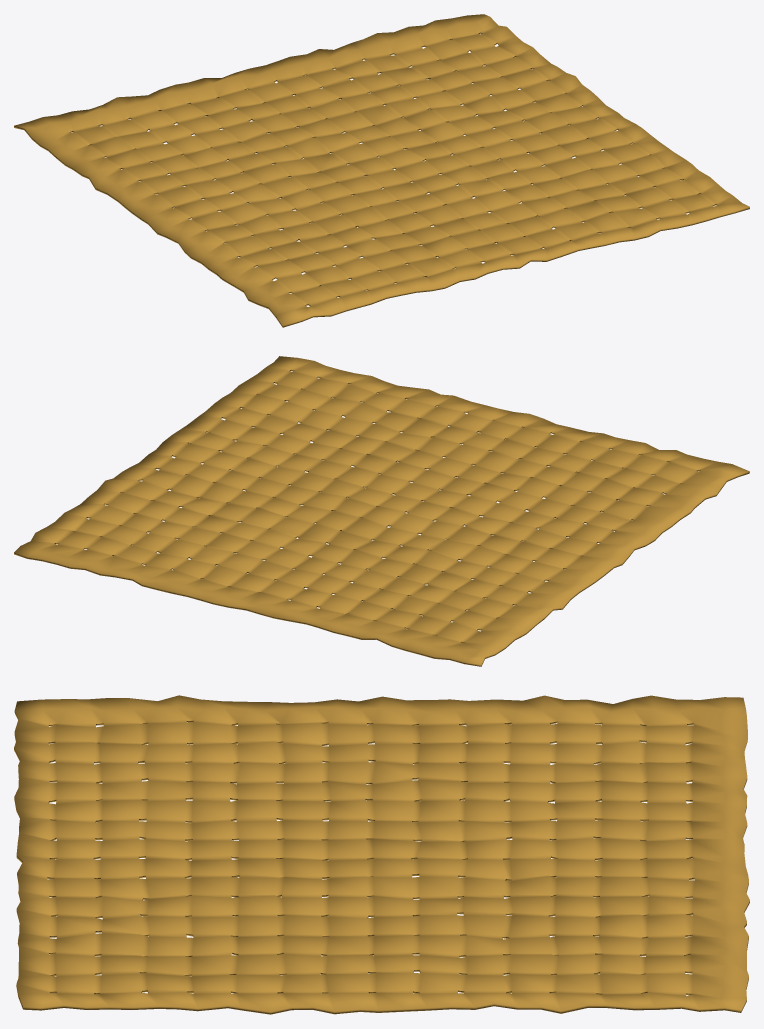
The model's file is Cracker.glb.
3 renders of one model, top to bottom at view 1: azimuth 30°, elevation 25°; view 2: azimuth 150°, elevation 25°; view 3: azimuth 270°, elevation 25°, orthographic. The views are drawn at different scales.
Visible parts, largest first — view 1: Plane; view 2: Plane; view 3: Plane.
Boxes of the visible parts, left/top/right/bottom form: Plane: left=14, top=14, right=749, bottom=327; Plane: left=14, top=356, right=749, bottom=666; Plane: left=14, top=695, right=749, bottom=1014.
Size of the model in its own units: 8.29 by 0.1385 by 8.3.
